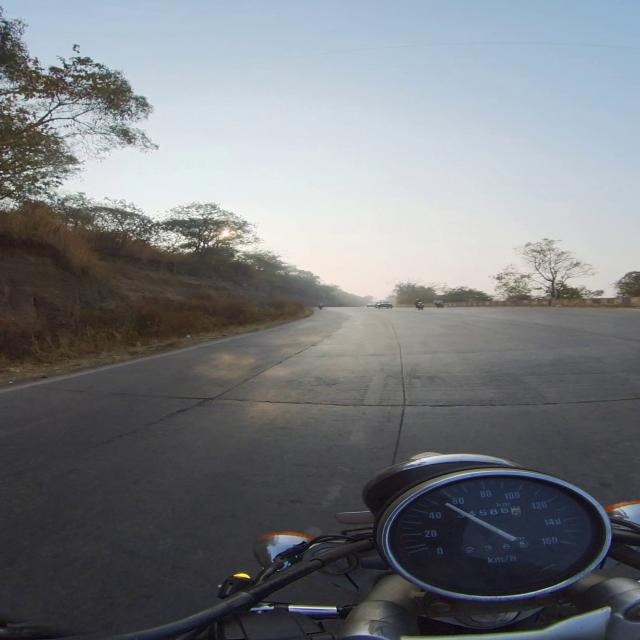car: (376, 301, 392, 308), (366, 302, 376, 307)
motorcycle: (110, 453, 639, 639), (416, 302, 424, 310)
